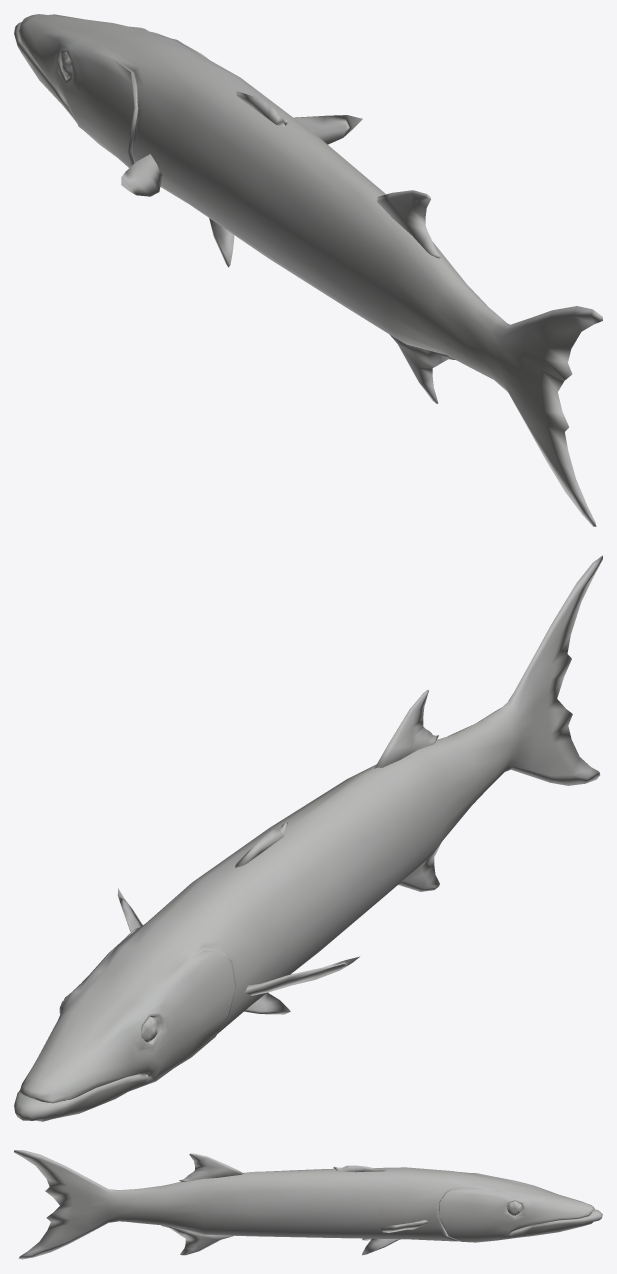
Rendered from barracuda.glb.
3 renders of one model, top to bottom at view 1: azimuth 30°, elevation 25°; view 2: azimuth 150°, elevation 25°; view 3: azimuth 270°, elevation 25°, orthographic. The views are drawn at different scales.
Parts seen in each view (by area): view 1: tripo_node_d10eb23d-71da-4d0c-8b6c-ada3a9cd203a; view 2: tripo_node_d10eb23d-71da-4d0c-8b6c-ada3a9cd203a; view 3: tripo_node_d10eb23d-71da-4d0c-8b6c-ada3a9cd203a.
Boxes of the visible parts, x1,y1,x2,y2 form: tripo_node_d10eb23d-71da-4d0c-8b6c-ada3a9cd203a: (14,14,602,526); tripo_node_d10eb23d-71da-4d0c-8b6c-ada3a9cd203a: (14,555,602,1121); tripo_node_d10eb23d-71da-4d0c-8b6c-ada3a9cd203a: (14,1150,602,1259).
Bounding box in the file's own units: 0.5857 × 0.5 × 2.43.
1 material, 1 textured.
